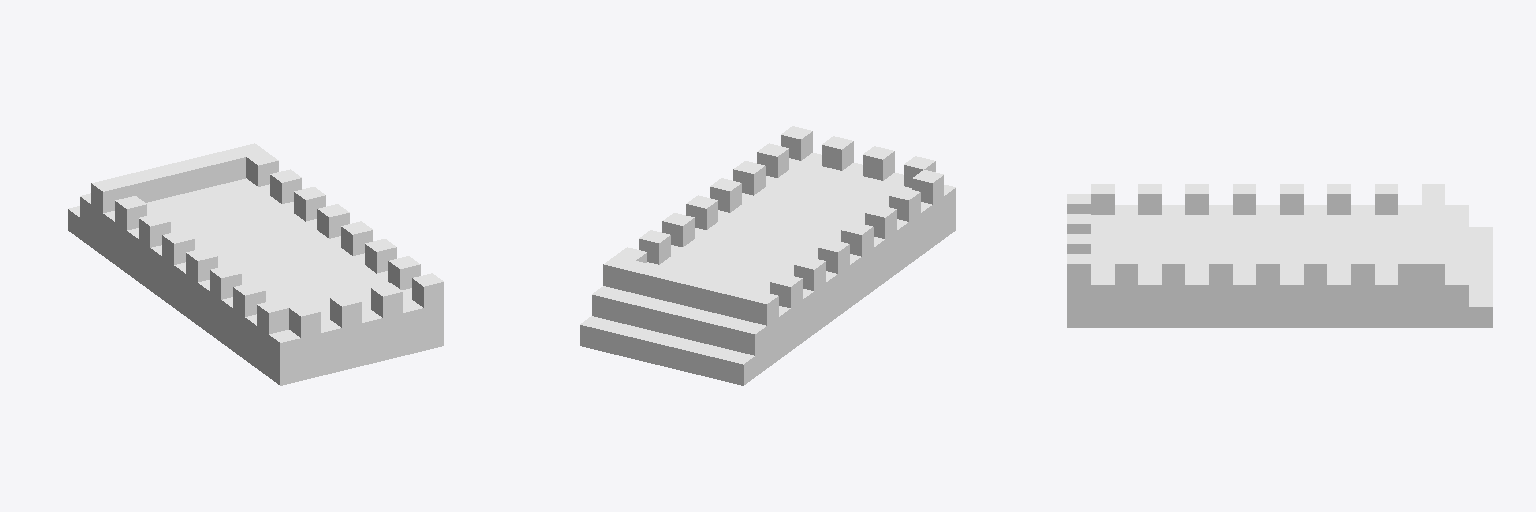
Rendered from JawBottom.obj.
The picture shows the model from 3 angles: view 1: azimuth 30°, elevation 25°; view 2: azimuth 150°, elevation 25°; view 3: azimuth 270°, elevation 25°; orthographic projection.
Bounding box in the file's own units: 8 × 3 × 18.